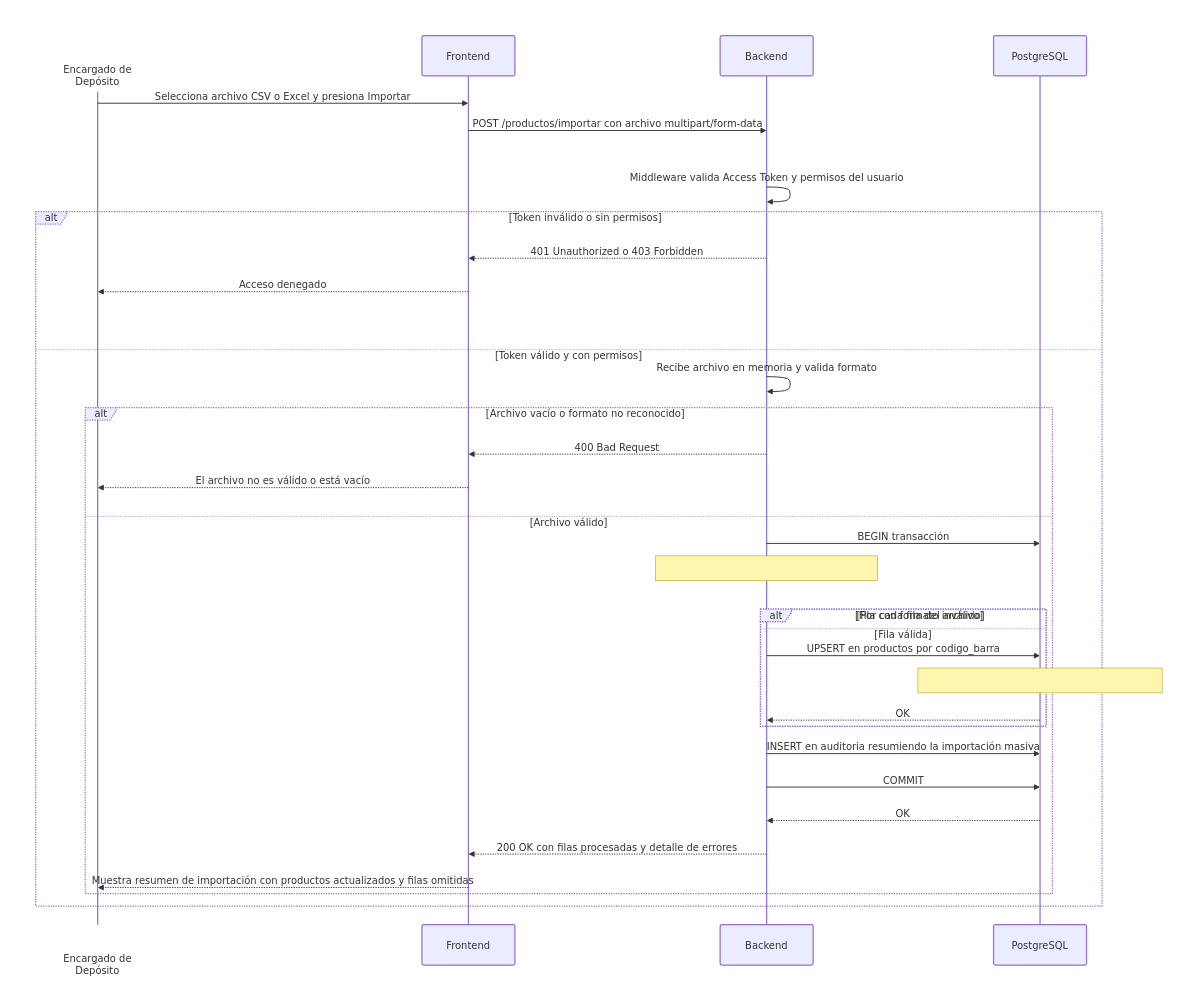
The diagram is 1179 pixels wide and 991 high, and some of its shapes have lost their labels. Here are the shapes that lost their labels. From the top down, the centre of each, then its label:
pixel 766 568: Fila omitida, se registra en reporte de errores
pixel 1039 680: INSERT si no existe, UPDATE precio y stock si existe
